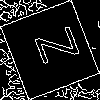Z: (25, 25, 80, 70)
